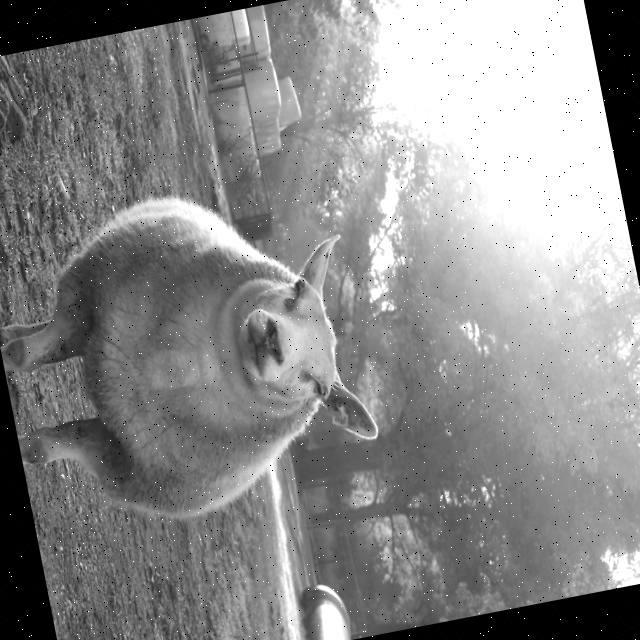sheep: (20, 196, 378, 520)
